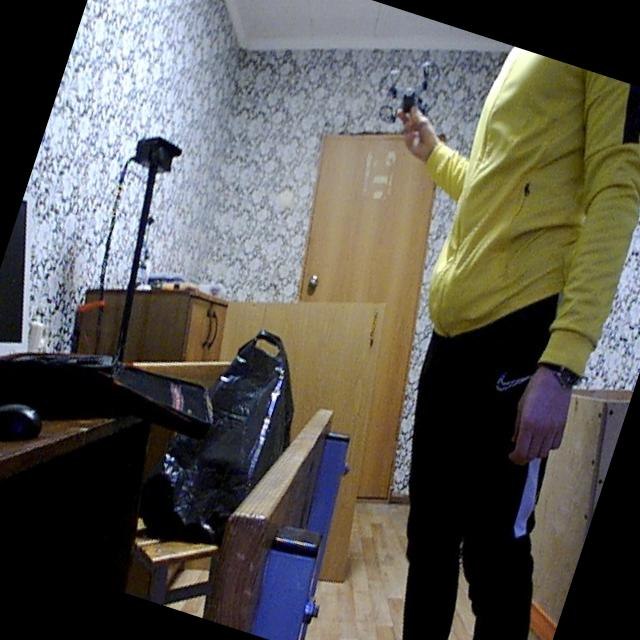drone: (360, 38, 460, 148)
